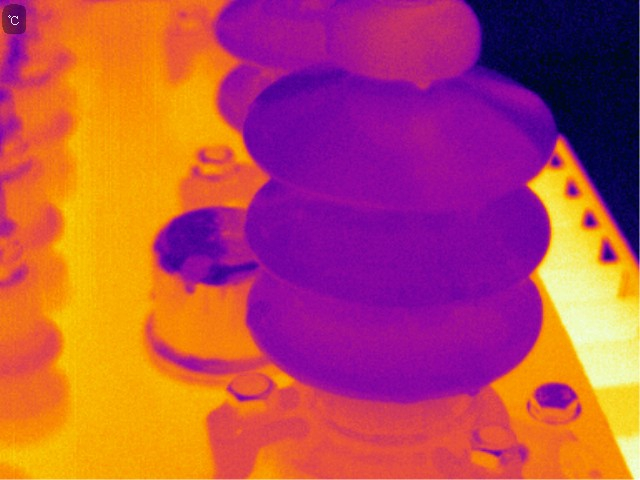Oil: (331, 1, 477, 89), (377, 99, 504, 171), (480, 77, 542, 114)
